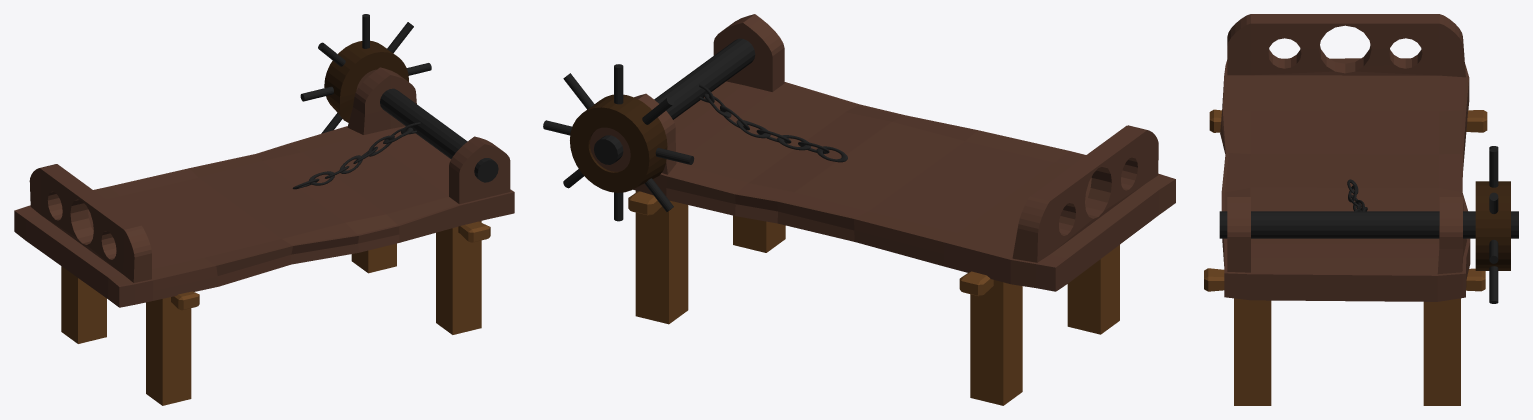
Rendered from Steckbank.fbx.
The picture shows the model from 3 angles, left to right: view 1: azimuth 30°, elevation 25°; view 2: azimuth 150°, elevation 25°; view 3: azimuth 270°, elevation 25°; orthographic projection. The views are drawn at different scales.
Parts seen in each view (by area): view 1: Streckbank; view 2: Streckbank; view 3: Streckbank.
Part boxes in pixels (box(x1,y1,x2,y2)): Streckbank: box(14, 14, 514, 405); Streckbank: box(543, 14, 1175, 405); Streckbank: box(1204, 14, 1518, 405).
Bounding box in the file's own units: 460 × 233 × 260.
